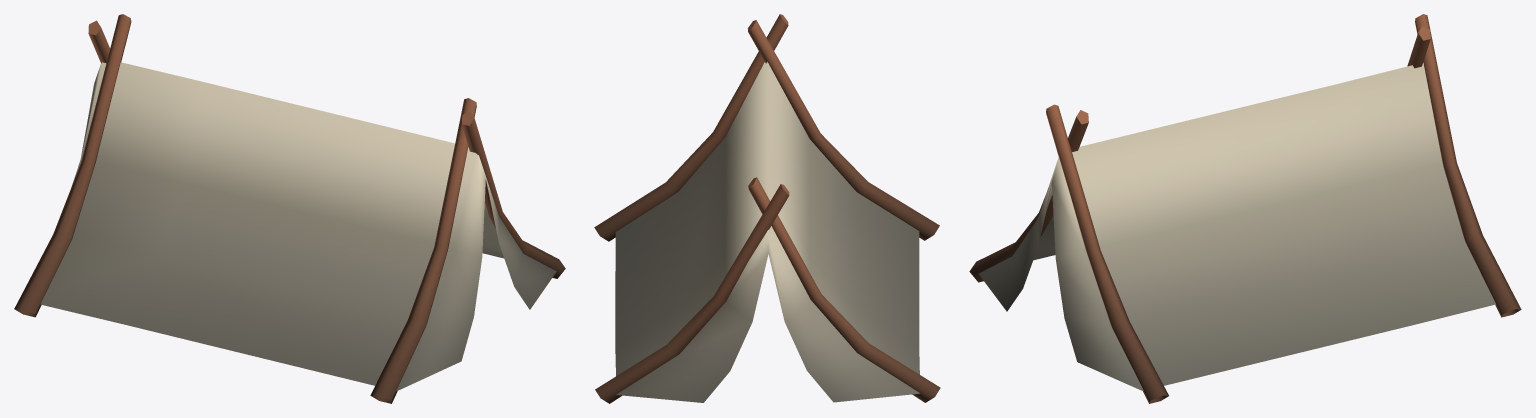
Rendered from tent8.fbx.
3 views of the same model, side by side, from view 1: azimuth 30°, elevation 25°; view 2: azimuth 150°, elevation 25°; view 3: azimuth 270°, elevation 25° (orthographic). The views are drawn at different scales.
Visible parts, largest first — view 1: tent8; view 2: tent8; view 3: tent8.
Part boxes in pixels (bbox=[...]): tent8: bbox=[14, 14, 565, 403]; tent8: bbox=[594, 14, 940, 403]; tent8: bbox=[969, 14, 1521, 403].
Bounding box in the file's own units: 873 × 434 × 925.
